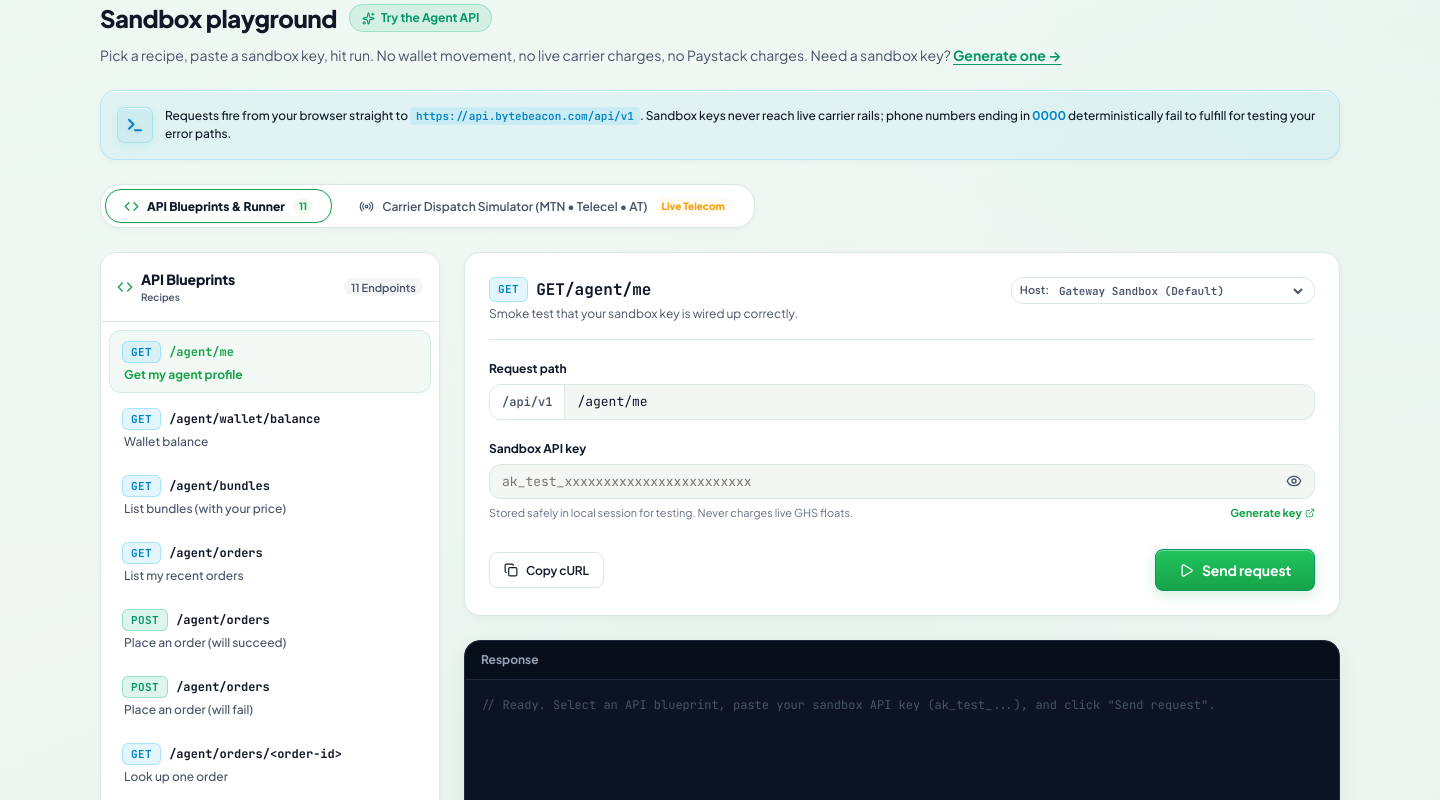
AgentSandboxPage — Sandbox Playground Spec & Interactive Runner › 5. switches recipe to Place an order (will fail) with 0000 deterministic number
This screenshot has width=1440, height=800.
Click the text "Place an order (will fail)".
click(188, 710)  # box x1=122 y1=702 x2=253 y2=717
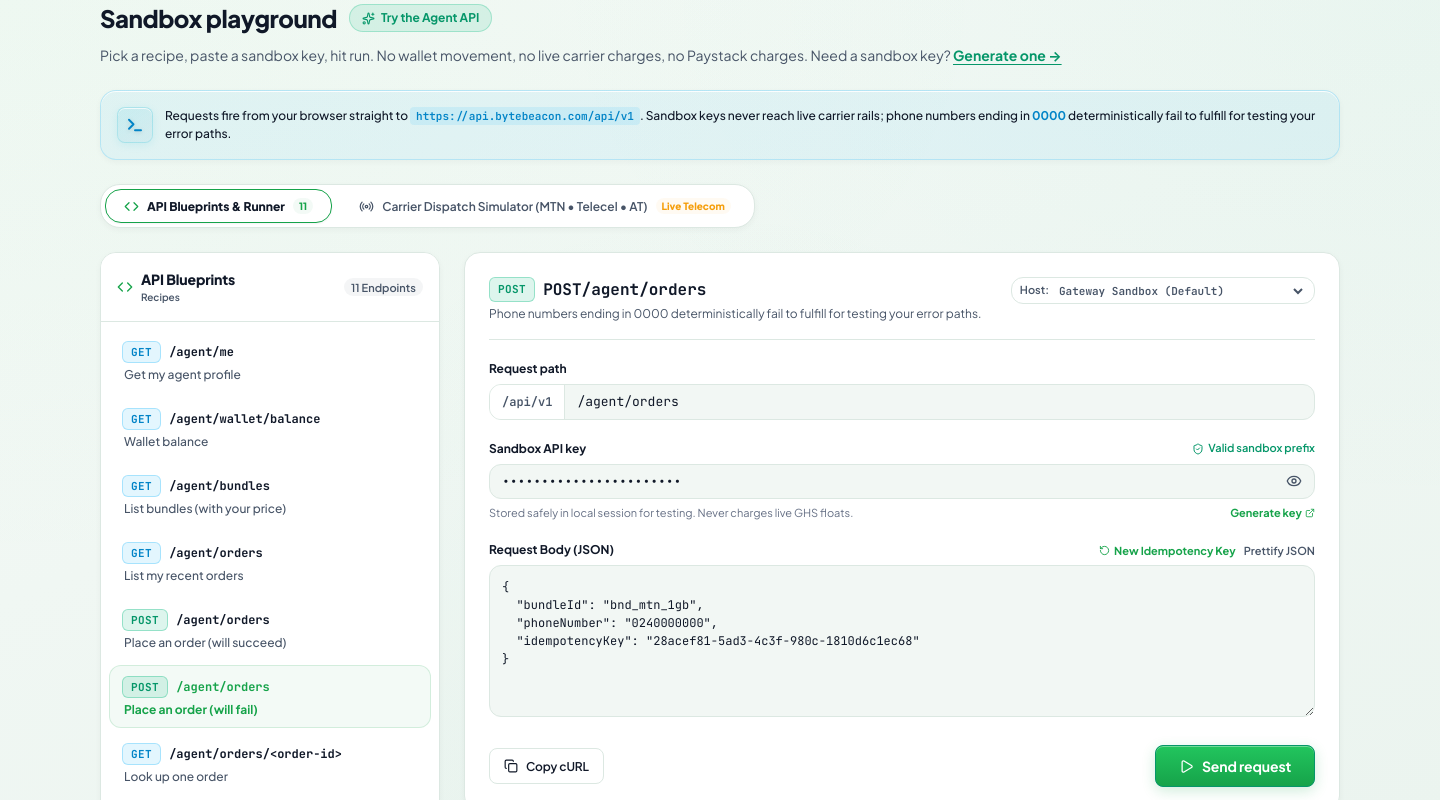
Result: the field showing "/agent/orders" is shown at x1=565 y1=385 x2=1314 y2=418
Result: the text box showing "0240000000" is shown at x1=489 y1=565 x2=1315 y2=717
